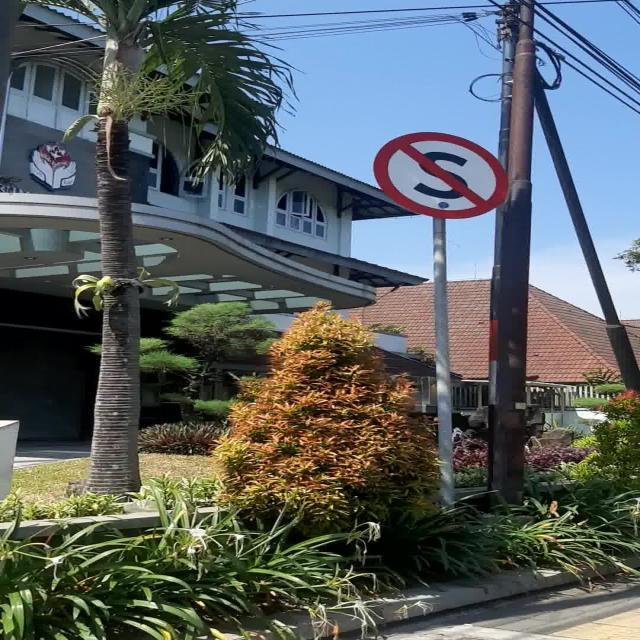Dilarang Berhenti: (373, 132, 508, 219)
